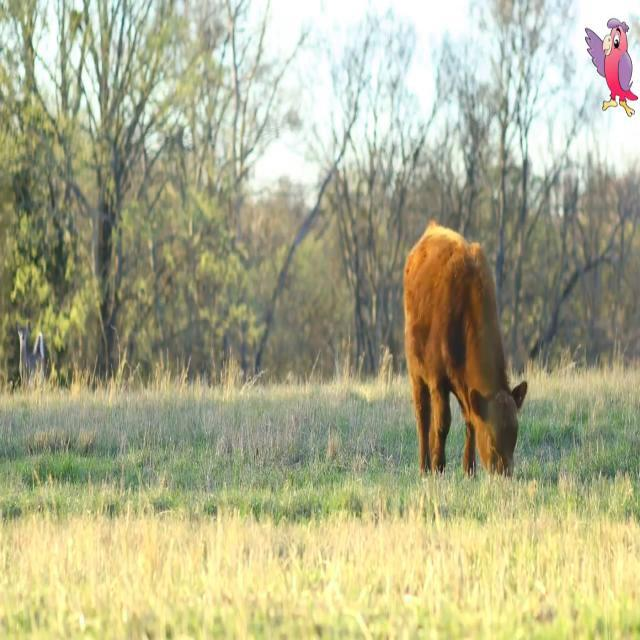cow: (404, 222, 528, 474)
